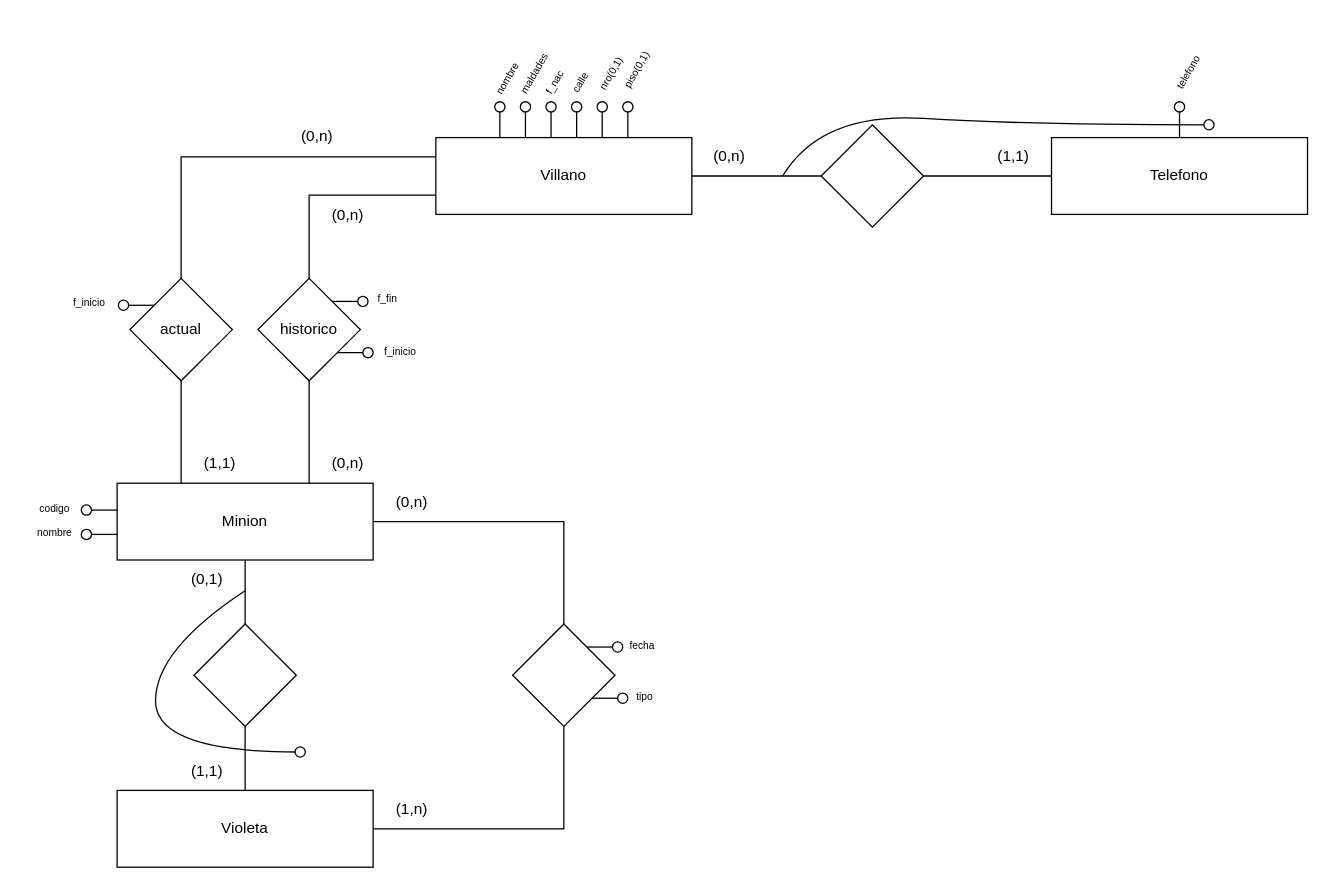
This 1330x891 diagram has some shape labels left out. The shapes that lost their labels are listed below. From the top down, each one's box as (x1, y1, x2, y2) in pixels, then its label:
(820, 124, 924, 227): tiene
(193, 623, 296, 726): es_un
(511, 623, 615, 726): mutó
